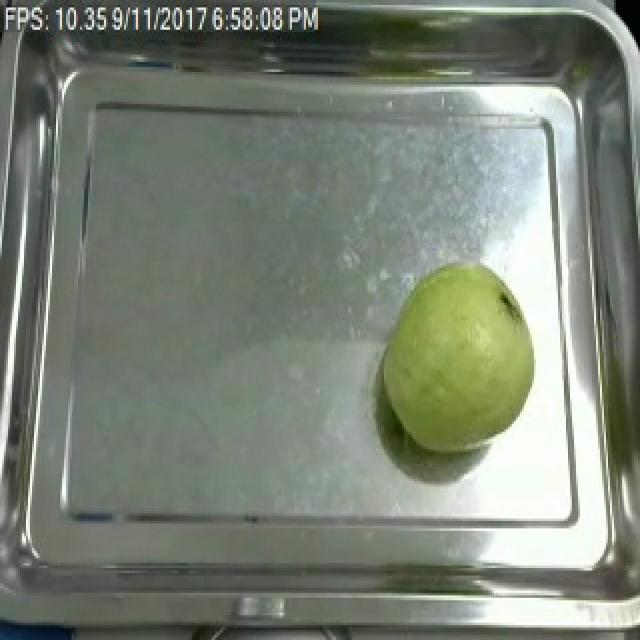Fruit: (374, 258, 546, 459)
